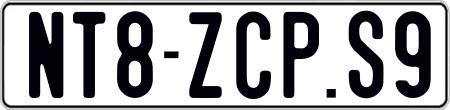8: (117, 10, 153, 100)
9: (393, 9, 431, 97)
C: (235, 9, 271, 97)
N: (27, 11, 66, 101)
P: (280, 11, 322, 99)
S: (348, 10, 386, 103)
T: (73, 11, 110, 99)
Z: (186, 11, 225, 99)
